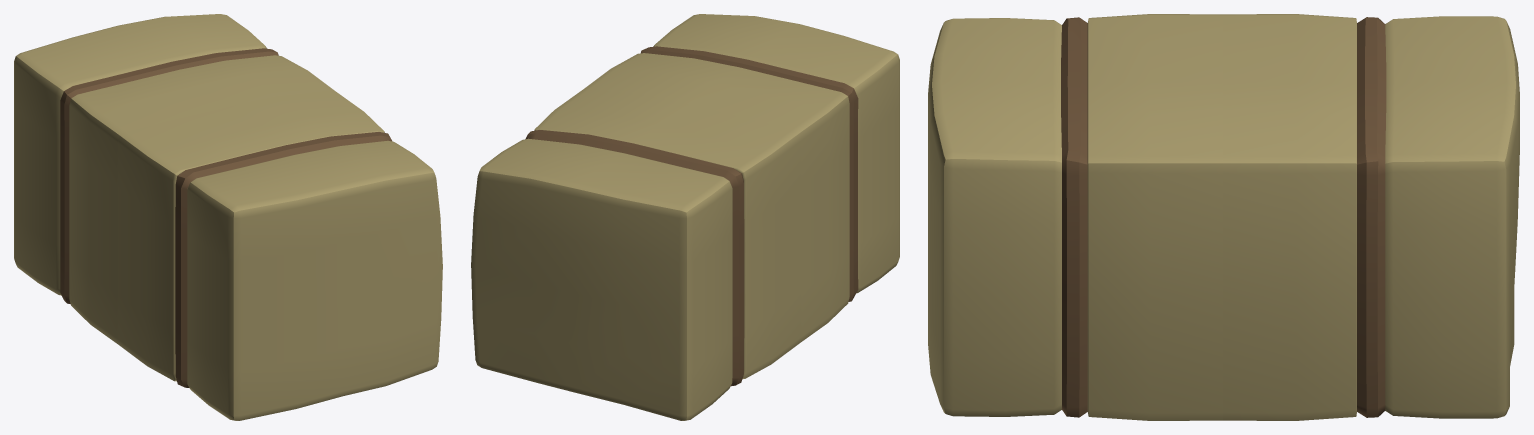
Rendered from Haystack.fbx.
3 renders of one model, left to right at view 1: azimuth 30°, elevation 25°; view 2: azimuth 150°, elevation 25°; view 3: azimuth 270°, elevation 25°, orthographic. The views are drawn at different scales.
Parts seen in each view (by area): view 1: Haystack; view 2: Haystack; view 3: Haystack.
Boxes of the visible parts, x1=… form: Haystack: x1=14, y1=14, x2=442, y2=420; Haystack: x1=471, y1=14, x2=899, y2=420; Haystack: x1=928, y1=14, x2=1519, y2=420.
Size of the model in its own units: 0.2357 by 0.214 by 0.4084.
